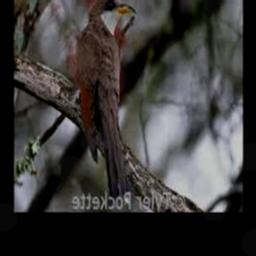Cuckoo: (77, 0, 136, 203)
